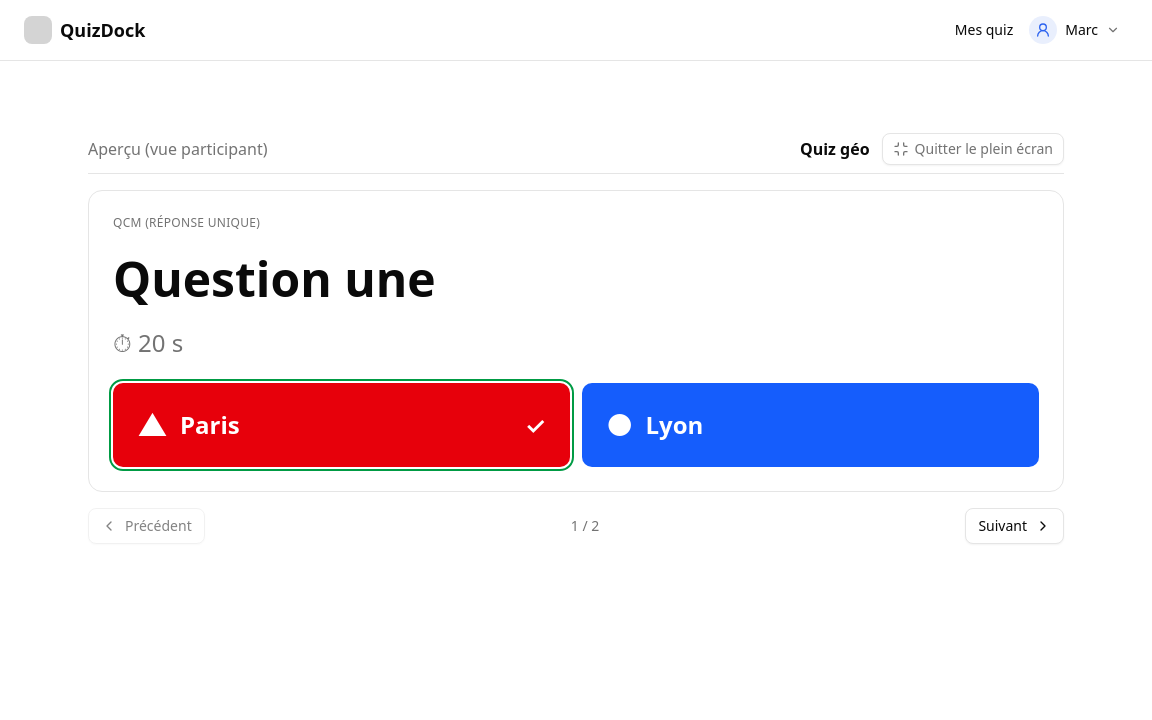
PreviewPage › navigue d’une question à l’autre
Expected: the text "Question une" is shown, [113,246,436,311]
Step 1. Click the button "Suivant" → (1015,526), box [965,508,1064,544]
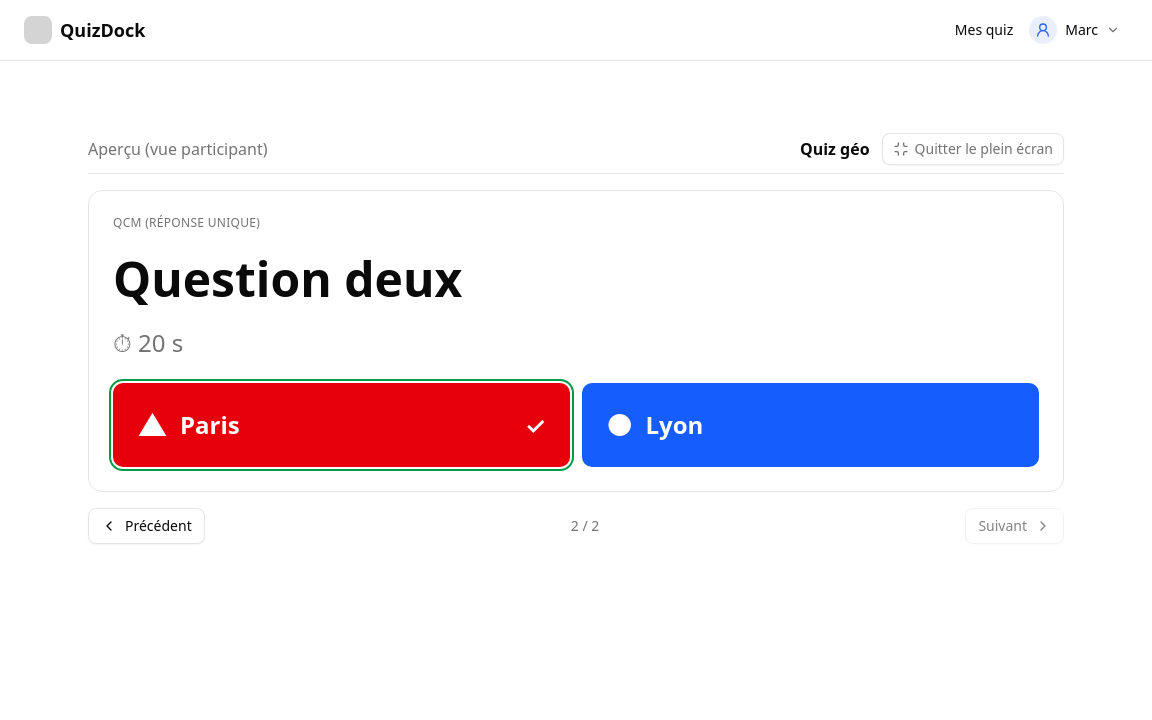
Result: the text "Question deux" is shown at [113,246,462,311]
